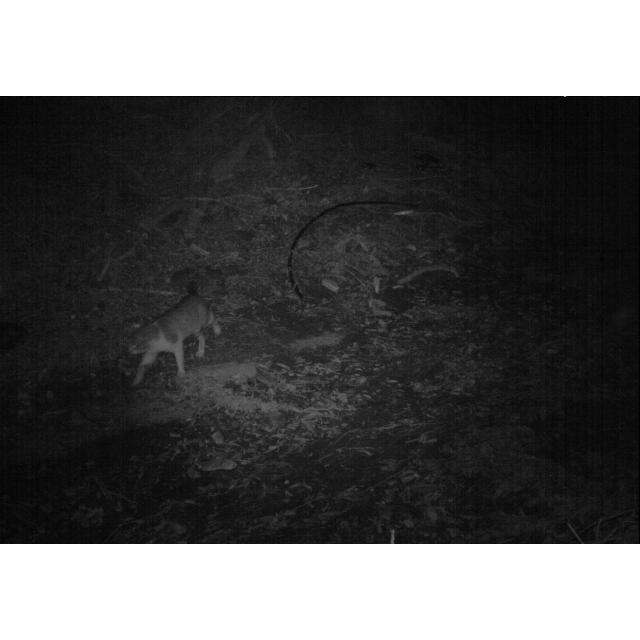animals: (124, 270, 226, 386)
